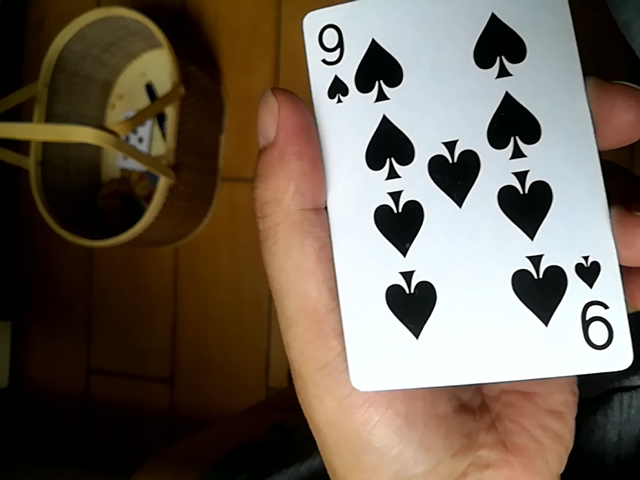ht 9: (296, 7, 624, 400)
